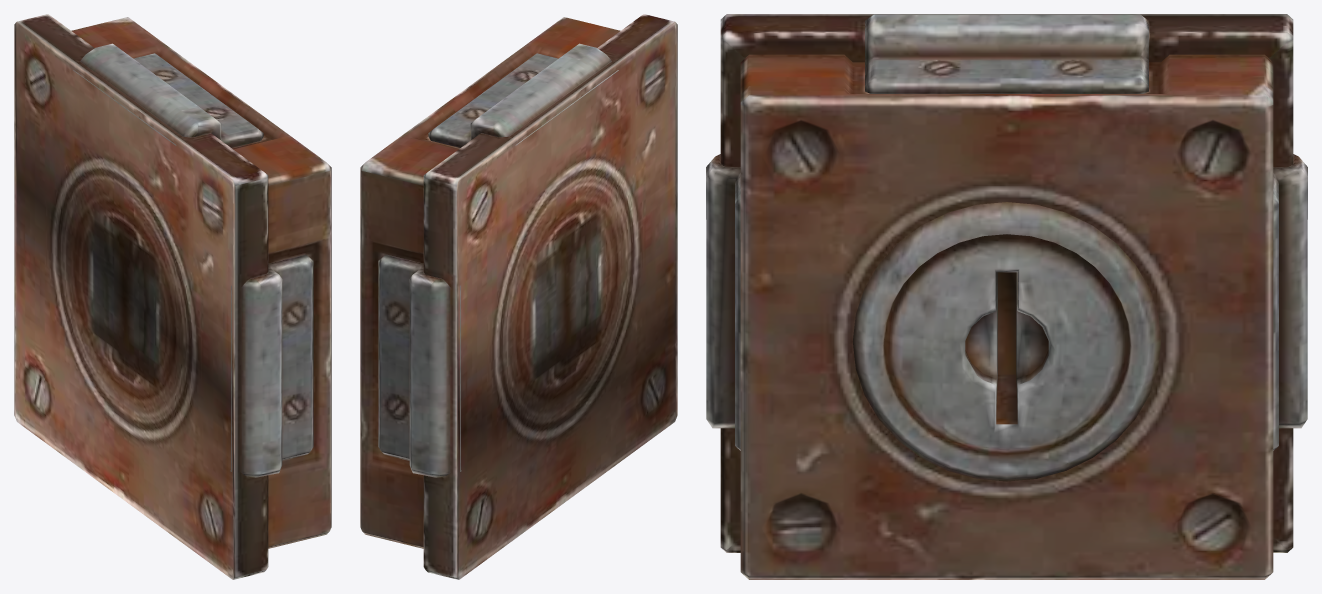
Rendered from w_keylock.worldmodel.glb.
3 views of the same model, side by side, from view 1: azimuth 30°, elevation 25°; view 2: azimuth 150°, elevation 25°; view 3: azimuth 270°, elevation 25° (orthographic). The views are drawn at different scales.
Parts seen in each view (by area): view 1: keylock_LOD0; view 2: keylock_LOD0; view 3: keylock_LOD0.
Part boxes in pixels (box(x1,y1,x2,y2)): keylock_LOD0: box(14, 14, 331, 579); keylock_LOD0: box(360, 14, 677, 579); keylock_LOD0: box(706, 14, 1307, 579).
Bounding box in the file's own units: 0.0641 × 0.21 × 0.21.
1 material, 1 textured.
